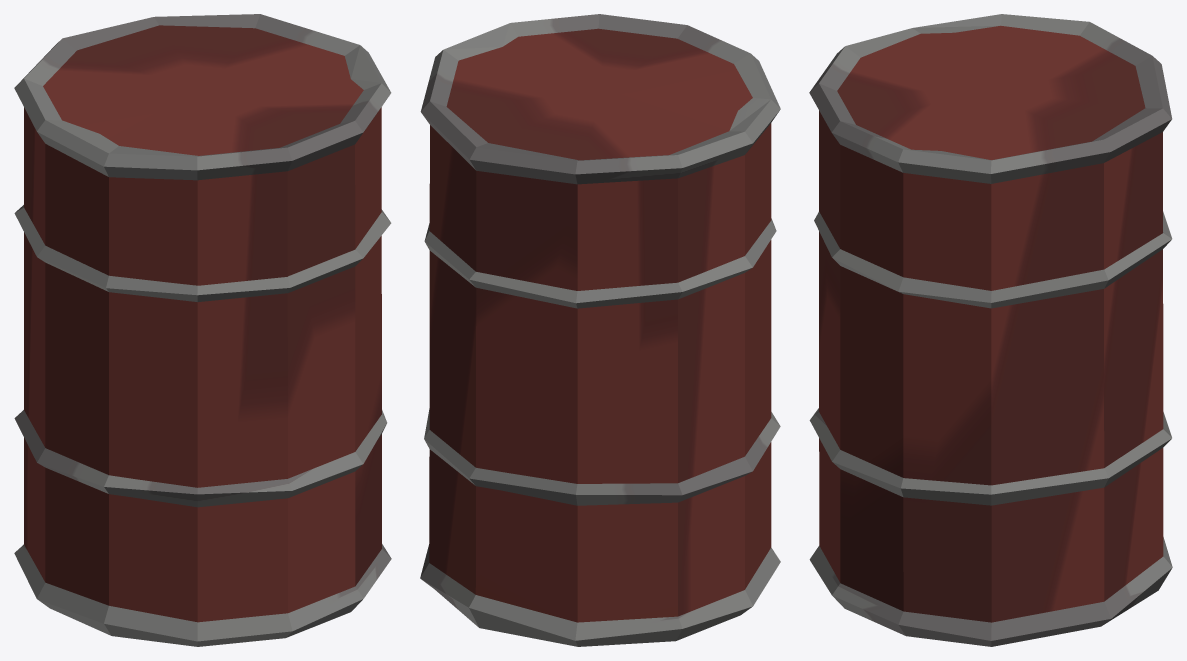
Rendered from SM_Prop_Barrel_Coloured_01.obj.
3 views of the same model, side by side, from view 1: azimuth 30°, elevation 25°; view 2: azimuth 150°, elevation 25°; view 3: azimuth 270°, elevation 25° (orthographic).
Visible parts, largest first — view 1: SM_Prop_Barrel_Coloured_01_0; view 2: SM_Prop_Barrel_Coloured_01_0; view 3: SM_Prop_Barrel_Coloured_01_0.
Boxes of the visible parts, x1,y1,x2,y2 form: SM_Prop_Barrel_Coloured_01_0: (14,14,391,646); SM_Prop_Barrel_Coloured_01_0: (420,14,780,646); SM_Prop_Barrel_Coloured_01_0: (809,14,1172,646).
Bounding box in the file's own units: 0.7261 × 1.05 × 0.7052.
1 material, 1 textured.
